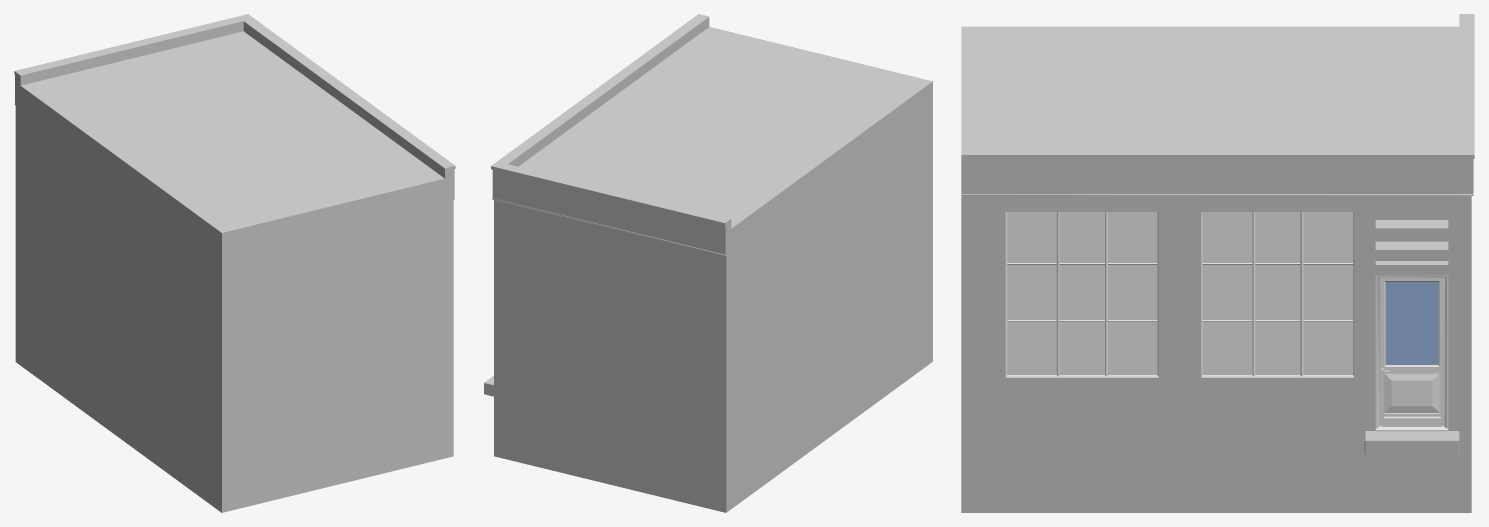
The model's file is ab_bookstore.glb.
3 renders of one model, left to right at view 1: azimuth 30°, elevation 25°; view 2: azimuth 150°, elevation 25°; view 3: azimuth 270°, elevation 25°, orthographic. The views are drawn at different scales.
Parts seen in each view (by area): view 1: exterior_walls, roof-col; view 2: exterior_walls, roof-col; view 3: exterior_walls, roof-col, G-__732774, G-__732783, G-__732477, G-__732954, G-__732900, G-__732702, G-__732648, G-__732945, G-__732882, G-__732693 (+17 smaller).
Boxes of the visible parts, bbox=[...] form: exterior_walls: bbox=[15, 82, 453, 512]; roof-col: bbox=[14, 14, 455, 232]; exterior_walls: bbox=[494, 81, 932, 512]; roof-col: bbox=[491, 14, 932, 256]; exterior_walls: bbox=[961, 196, 1471, 512]; roof-col: bbox=[961, 14, 1474, 195]; G-__732774: bbox=[1379, 277, 1444, 426]; G-__732783: bbox=[1385, 282, 1438, 364]; G-__732477: bbox=[1375, 212, 1448, 260]; G-__732954: bbox=[1202, 264, 1252, 319]; G-__732900: bbox=[1303, 264, 1352, 319]; G-__732702: bbox=[1007, 264, 1056, 319]; G-__732648: bbox=[1108, 264, 1157, 319]; G-__732945: bbox=[1202, 321, 1252, 374]; G-__732882: bbox=[1303, 321, 1352, 374]; G-__732693: bbox=[1007, 321, 1056, 374].
Bounding box in the file's own units: 4.84 × 5.43 × 7.04.
